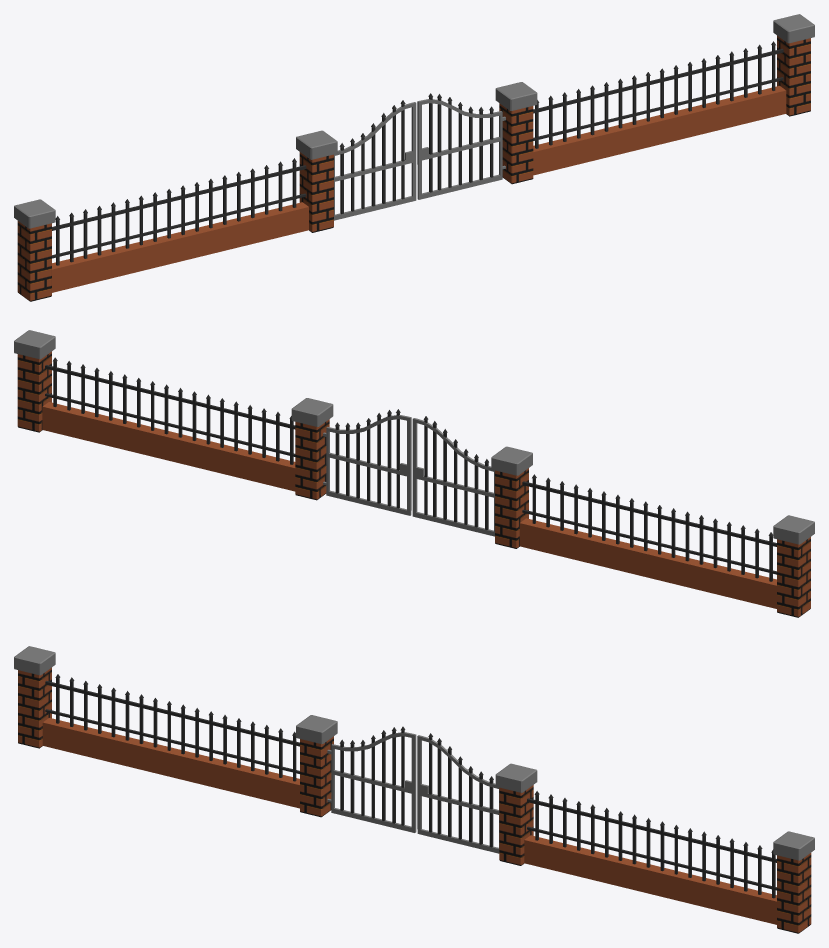
The model's file is gerbang utama.fbx.
3 views of the same model, one above another, from view 1: azimuth 30°, elevation 25°; view 2: azimuth 150°, elevation 25°; view 3: azimuth 330°, elevation 25° (orthographic).
Visible parts, largest first — view 1: Cube.051; view 2: Cube.051; view 3: Cube.051.
Part boxes in pixels (x1,y1,x2,y2): Cube.051: [14, 14, 814, 301]; Cube.051: [14, 330, 814, 617]; Cube.051: [14, 646, 814, 933].
Bounding box in the file's own units: 3583 × 459 × 124.
4 materials, 1 textured.
